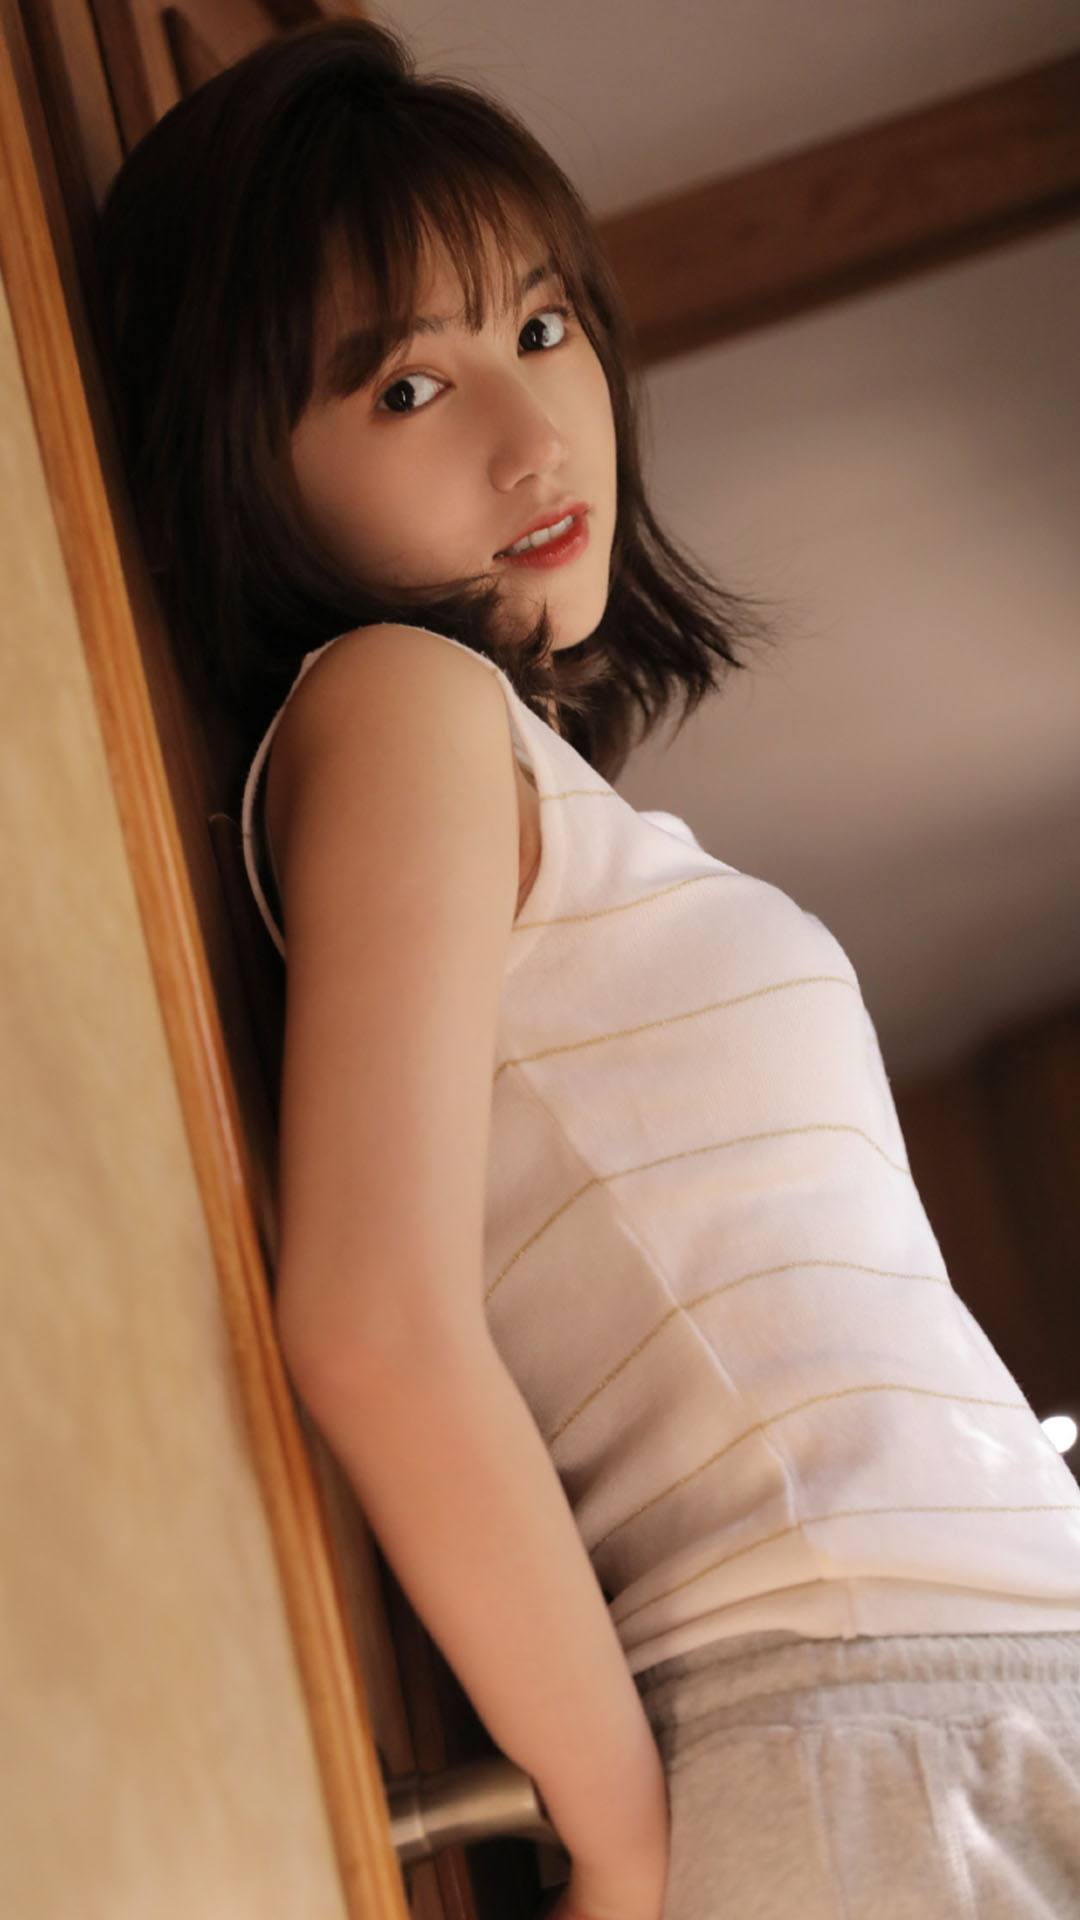person: (144, 80, 953, 1335)
